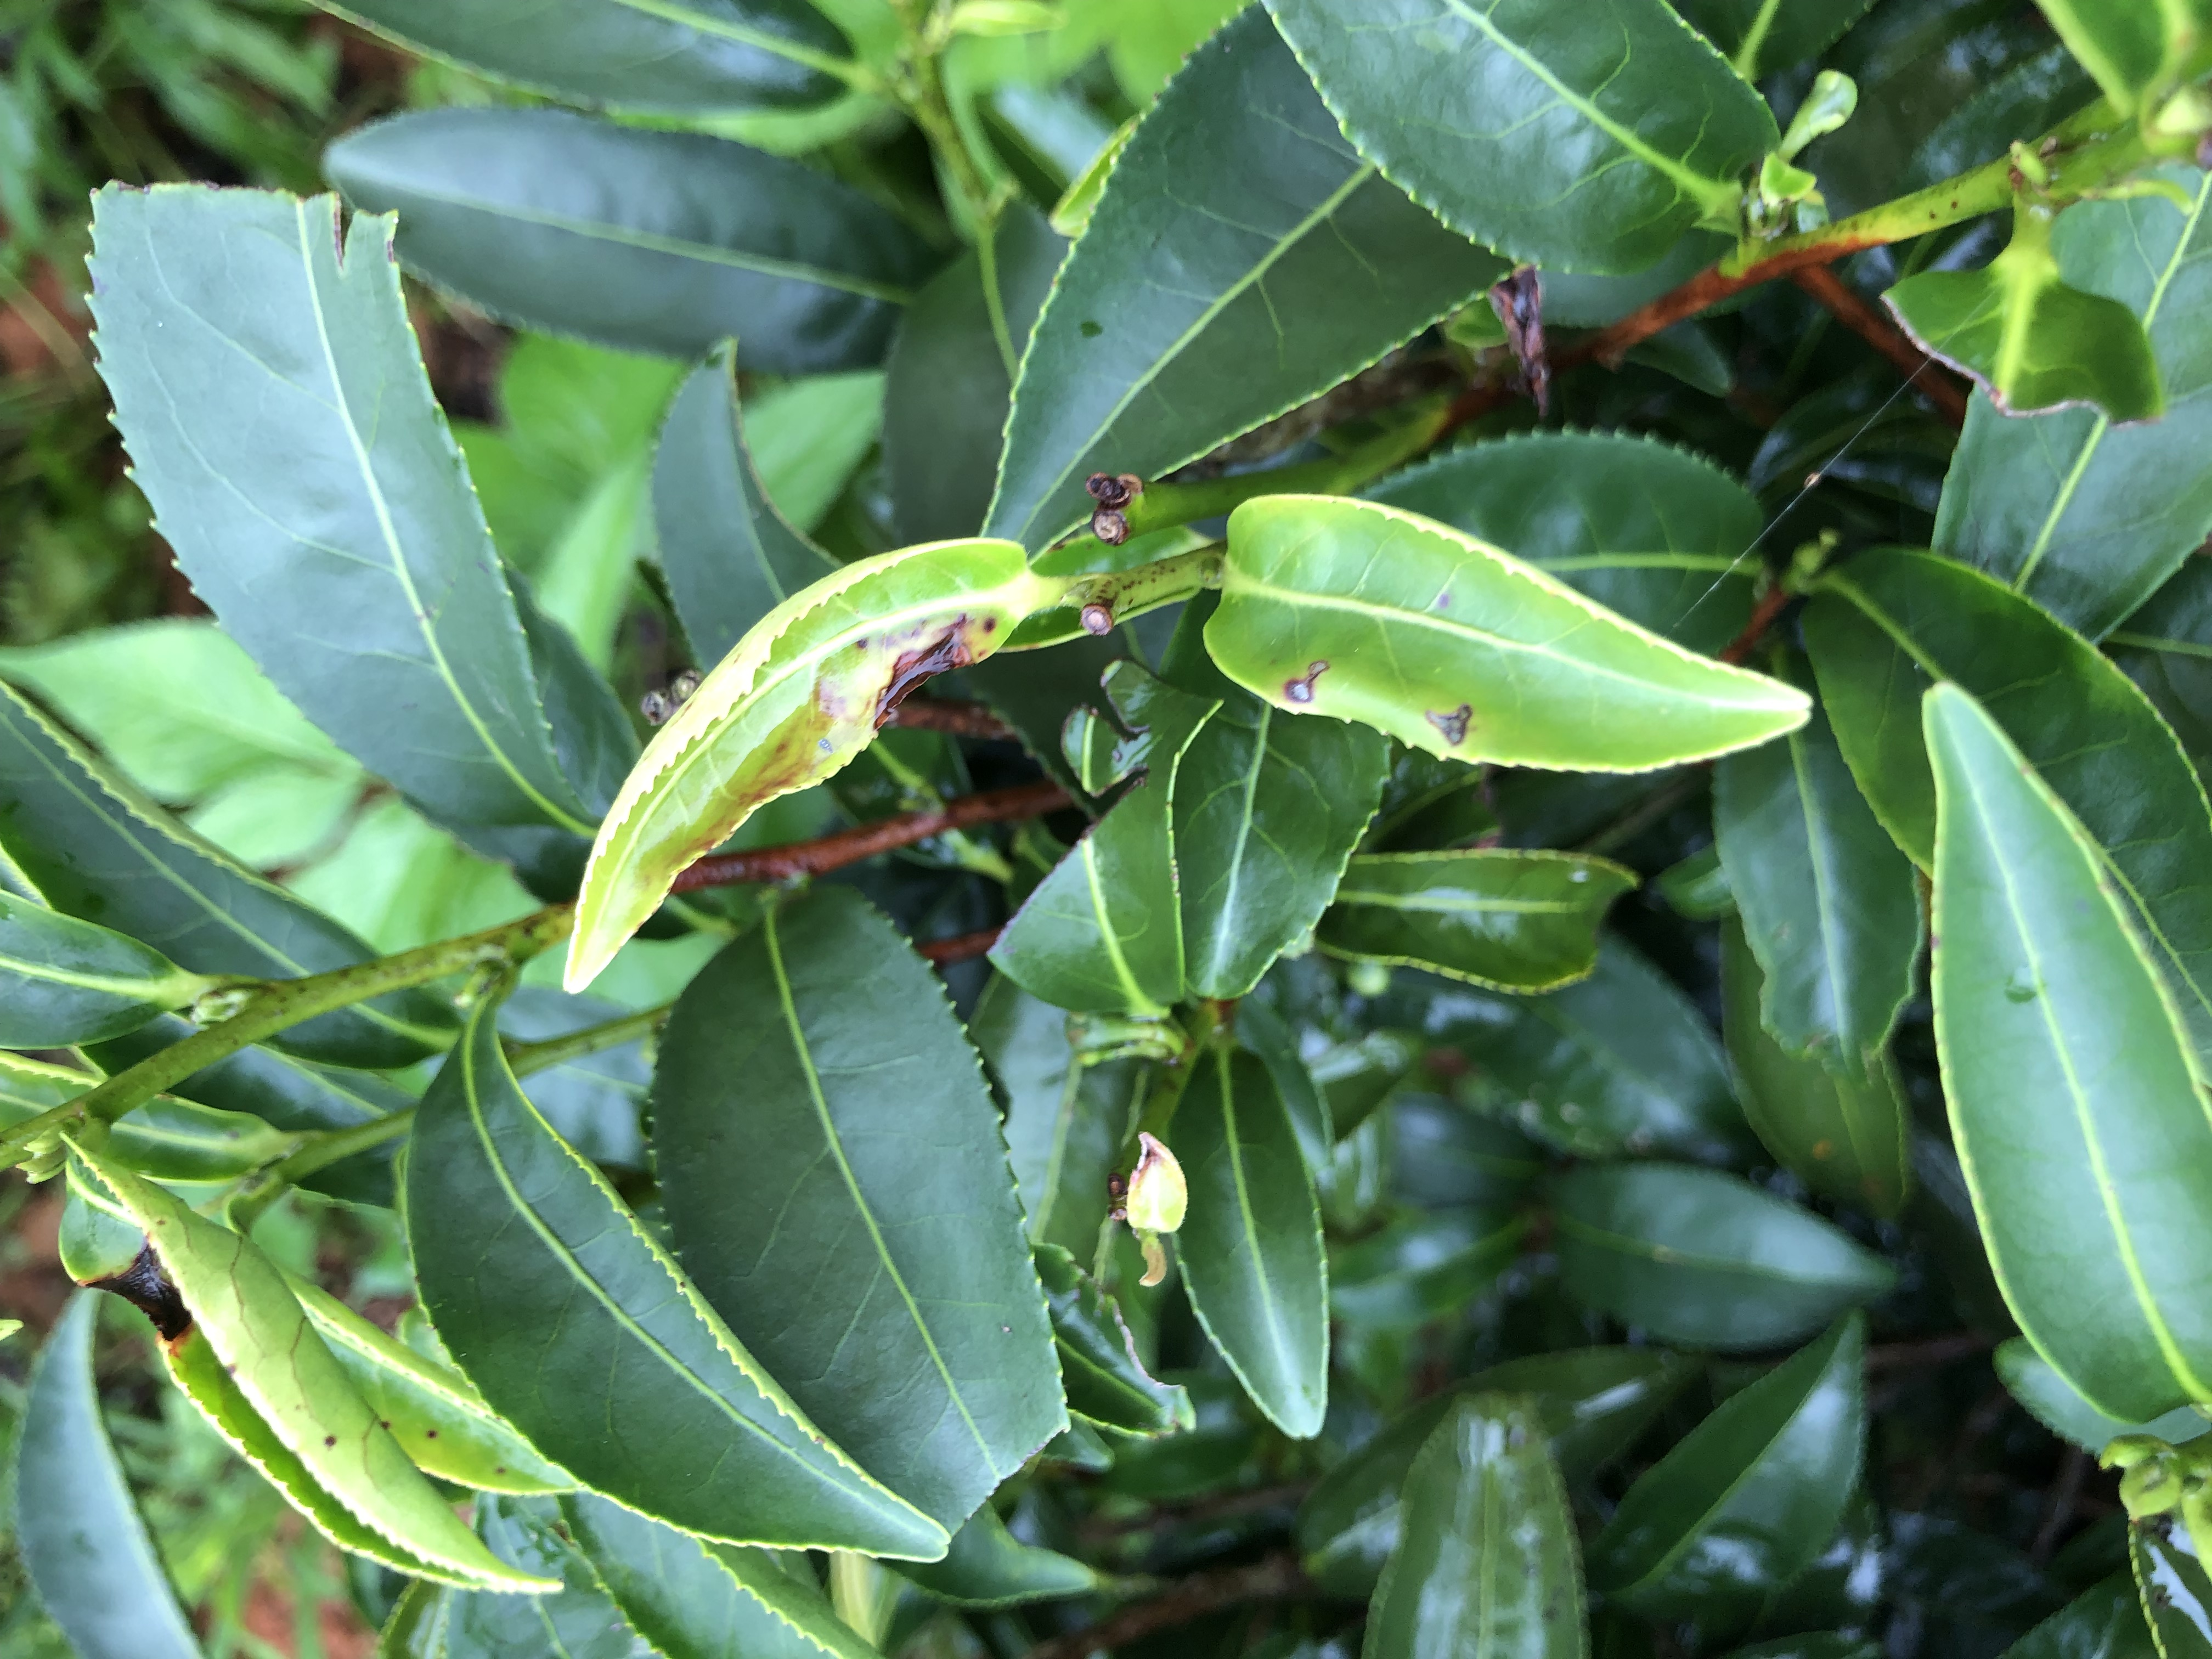formosa: (521, 525, 1057, 983)
mosquito_late: (1204, 488, 1878, 769)
other: (1073, 580, 1155, 634)
tortrix: (54, 1159, 578, 1563)
